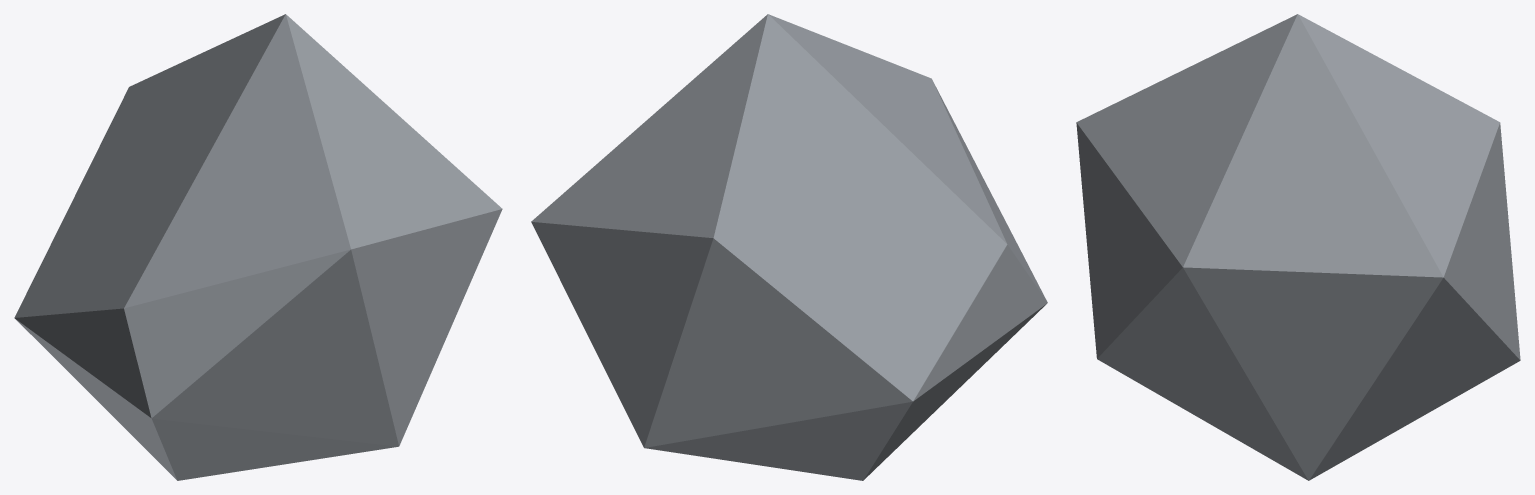
The model's file is stone-type-007.obj.
3 renders of one model, left to right at view 1: azimuth 30°, elevation 25°; view 2: azimuth 150°, elevation 25°; view 3: azimuth 270°, elevation 25°, orthographic. The views are drawn at different scales.
Parts seen in each view (by area): view 1: stone-type-004-rndm.003; view 2: stone-type-004-rndm.003; view 3: stone-type-004-rndm.003.
Boxes of the visible parts, x1,y1,x2,y2 form: stone-type-004-rndm.003: (14,14,502,480); stone-type-004-rndm.003: (531,14,1047,480); stone-type-004-rndm.003: (1076,14,1520,480).
Size of the model in its own units: 0.4418 by 0.5031 by 0.4757.
